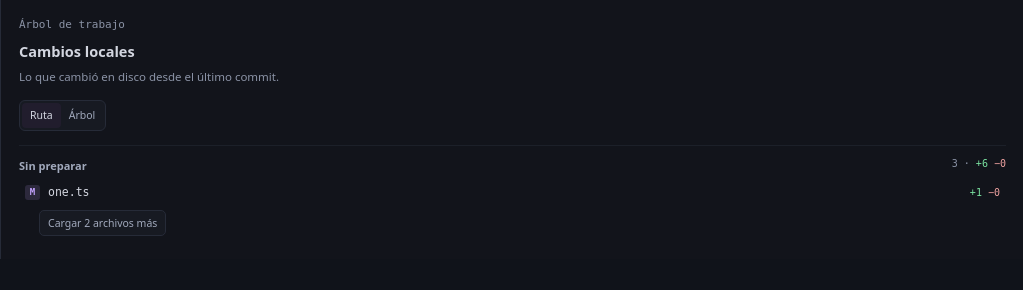
Test: WorkingTreeDetailPanel › when there are more files than one page › loads the next page from the cursor, in the same revision
Click the button "Cargar 2 archivos más": (103, 223) [39,210,166,236]
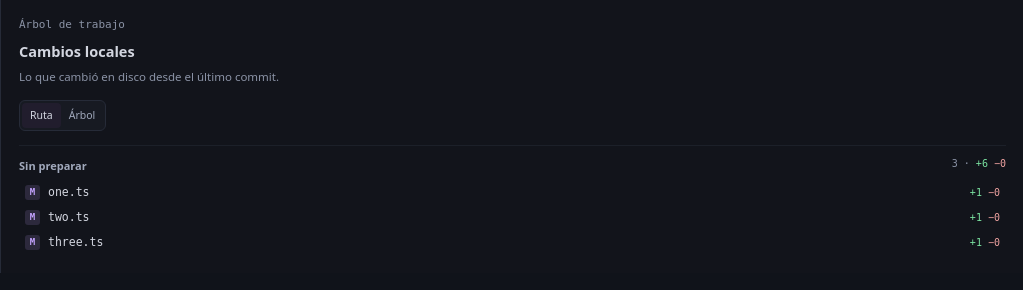
Check: the button "Cargar 2 archivos más" is gone
